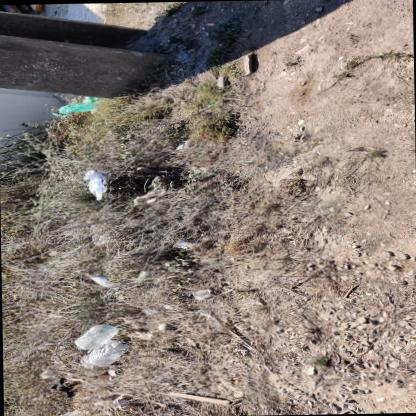Plastic: (74, 323, 117, 349), (52, 95, 100, 117), (89, 338, 129, 364), (133, 175, 166, 205), (80, 168, 107, 199), (80, 353, 100, 367), (193, 288, 216, 299), (58, 408, 77, 416), (38, 369, 54, 377), (141, 332, 156, 339)
Waste: (86, 273, 120, 290), (49, 376, 74, 396), (172, 239, 197, 248), (135, 269, 153, 280)
